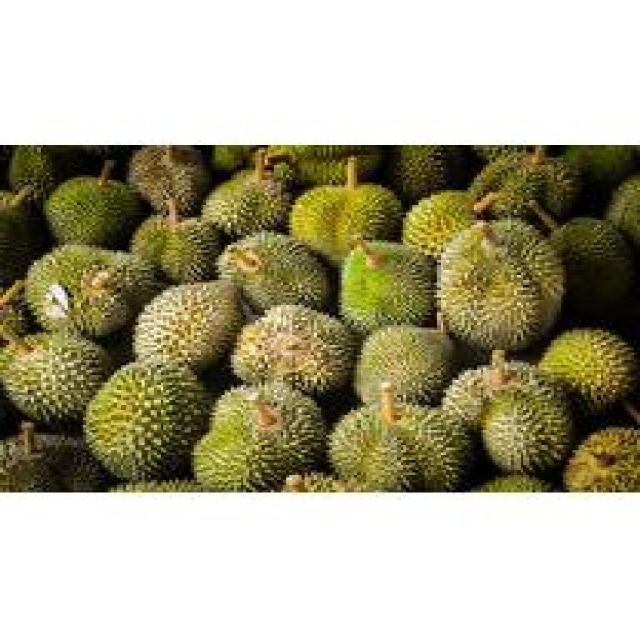fruit: (412, 180, 588, 375), (468, 340, 590, 488), (222, 288, 366, 410), (0, 318, 120, 438), (529, 315, 640, 430)
